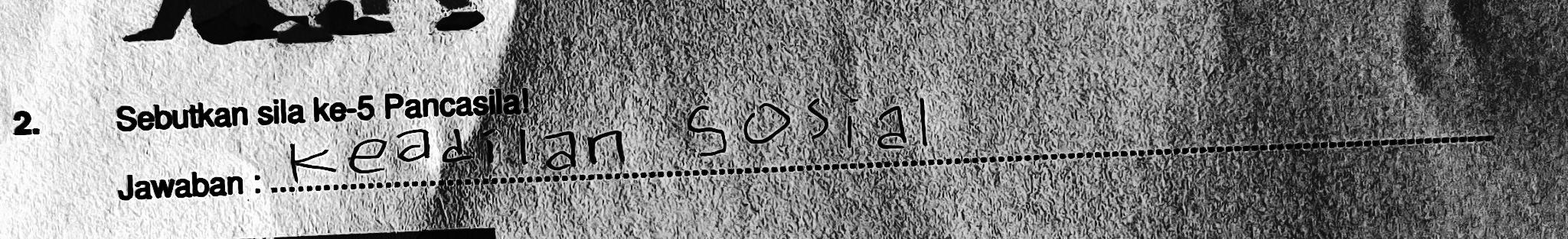jawaban: (284, 82, 943, 189)
